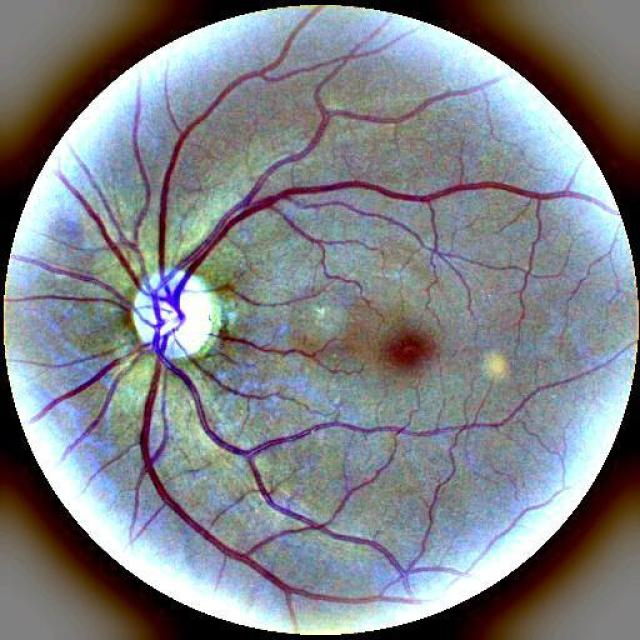Macula: (382, 329, 434, 368)
Optic Disk: (132, 270, 232, 359)
